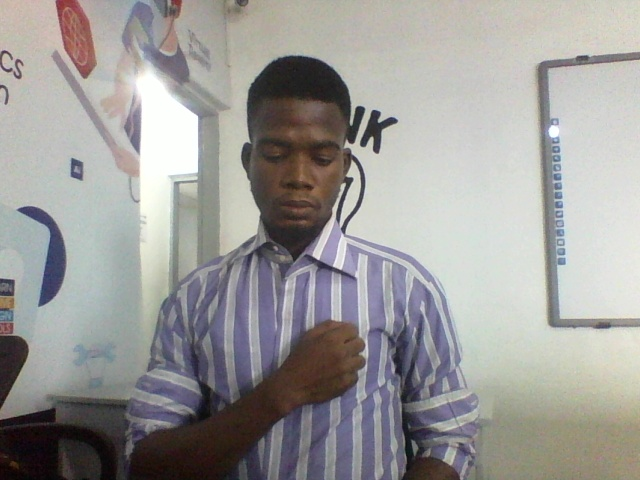sorry: (207, 317, 365, 449)
